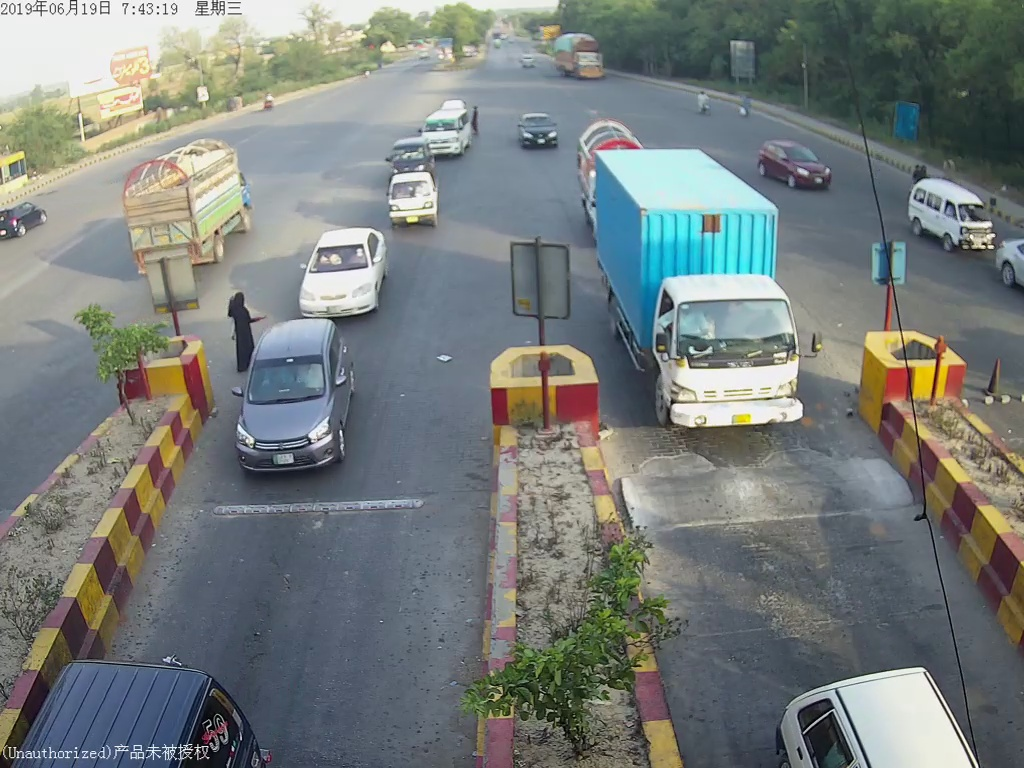Cat-1: (241, 322, 365, 476), (295, 224, 392, 315), (385, 163, 441, 227), (517, 112, 563, 149)
Cat-2: (599, 153, 826, 461)
